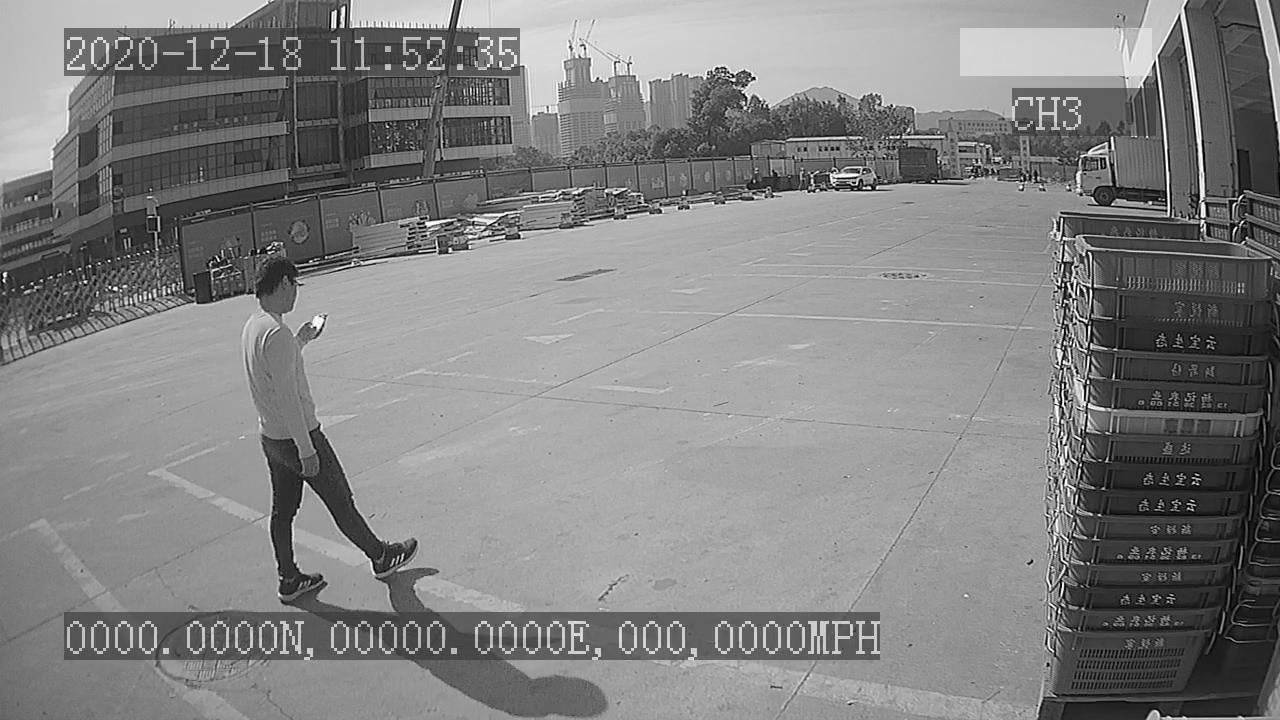person: (236, 247, 424, 602)
